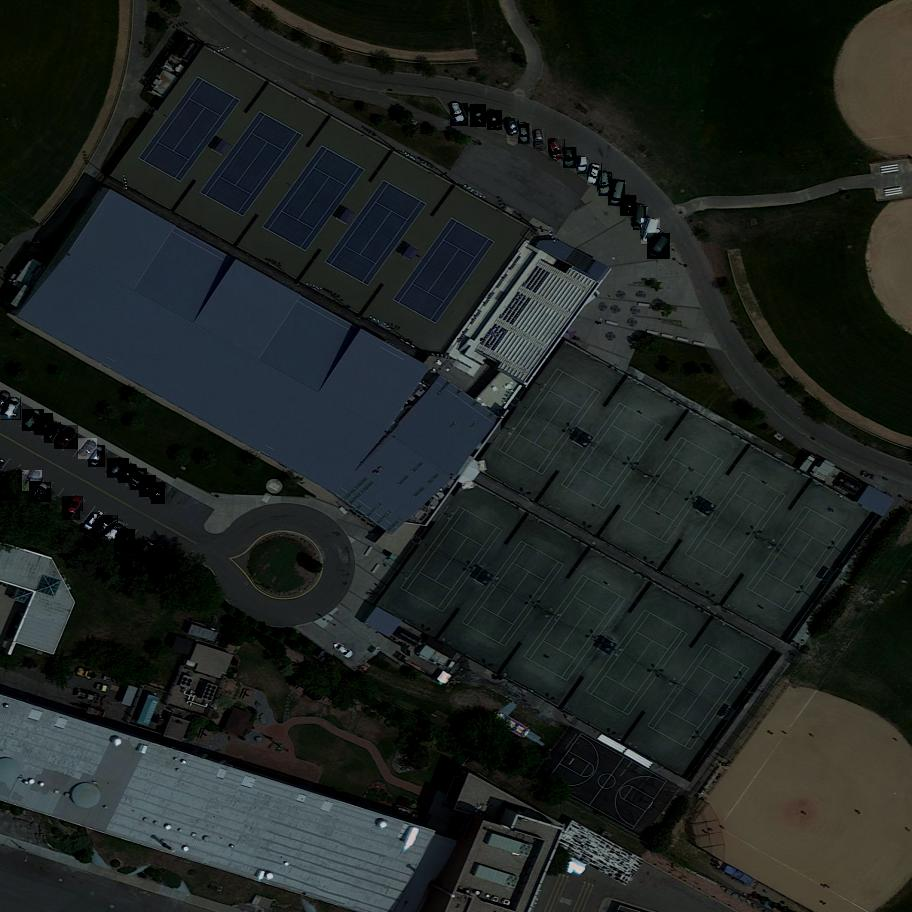large-vehicle: (647, 233, 672, 260), (642, 219, 661, 247), (609, 180, 628, 207), (634, 206, 647, 230)
small-vehicle: (54, 424, 78, 450), (92, 514, 118, 538), (22, 409, 45, 433), (136, 540, 159, 564), (63, 495, 84, 521), (81, 510, 103, 534), (115, 528, 136, 553), (1, 397, 21, 422), (107, 457, 129, 479), (22, 470, 42, 494), (35, 413, 55, 437), (30, 481, 51, 503), (78, 438, 98, 461), (334, 644, 356, 664), (119, 464, 138, 486), (161, 553, 180, 575), (130, 469, 148, 492), (44, 421, 62, 444), (89, 444, 106, 468), (451, 103, 468, 127), (548, 140, 566, 162), (139, 475, 156, 498), (471, 104, 487, 128), (621, 196, 638, 218), (587, 163, 603, 186), (150, 546, 168, 565), (152, 482, 166, 505), (110, 520, 124, 542), (487, 111, 502, 131), (599, 173, 612, 196), (505, 119, 519, 139), (564, 148, 577, 169), (534, 130, 546, 148), (519, 124, 529, 143), (578, 158, 587, 173)
